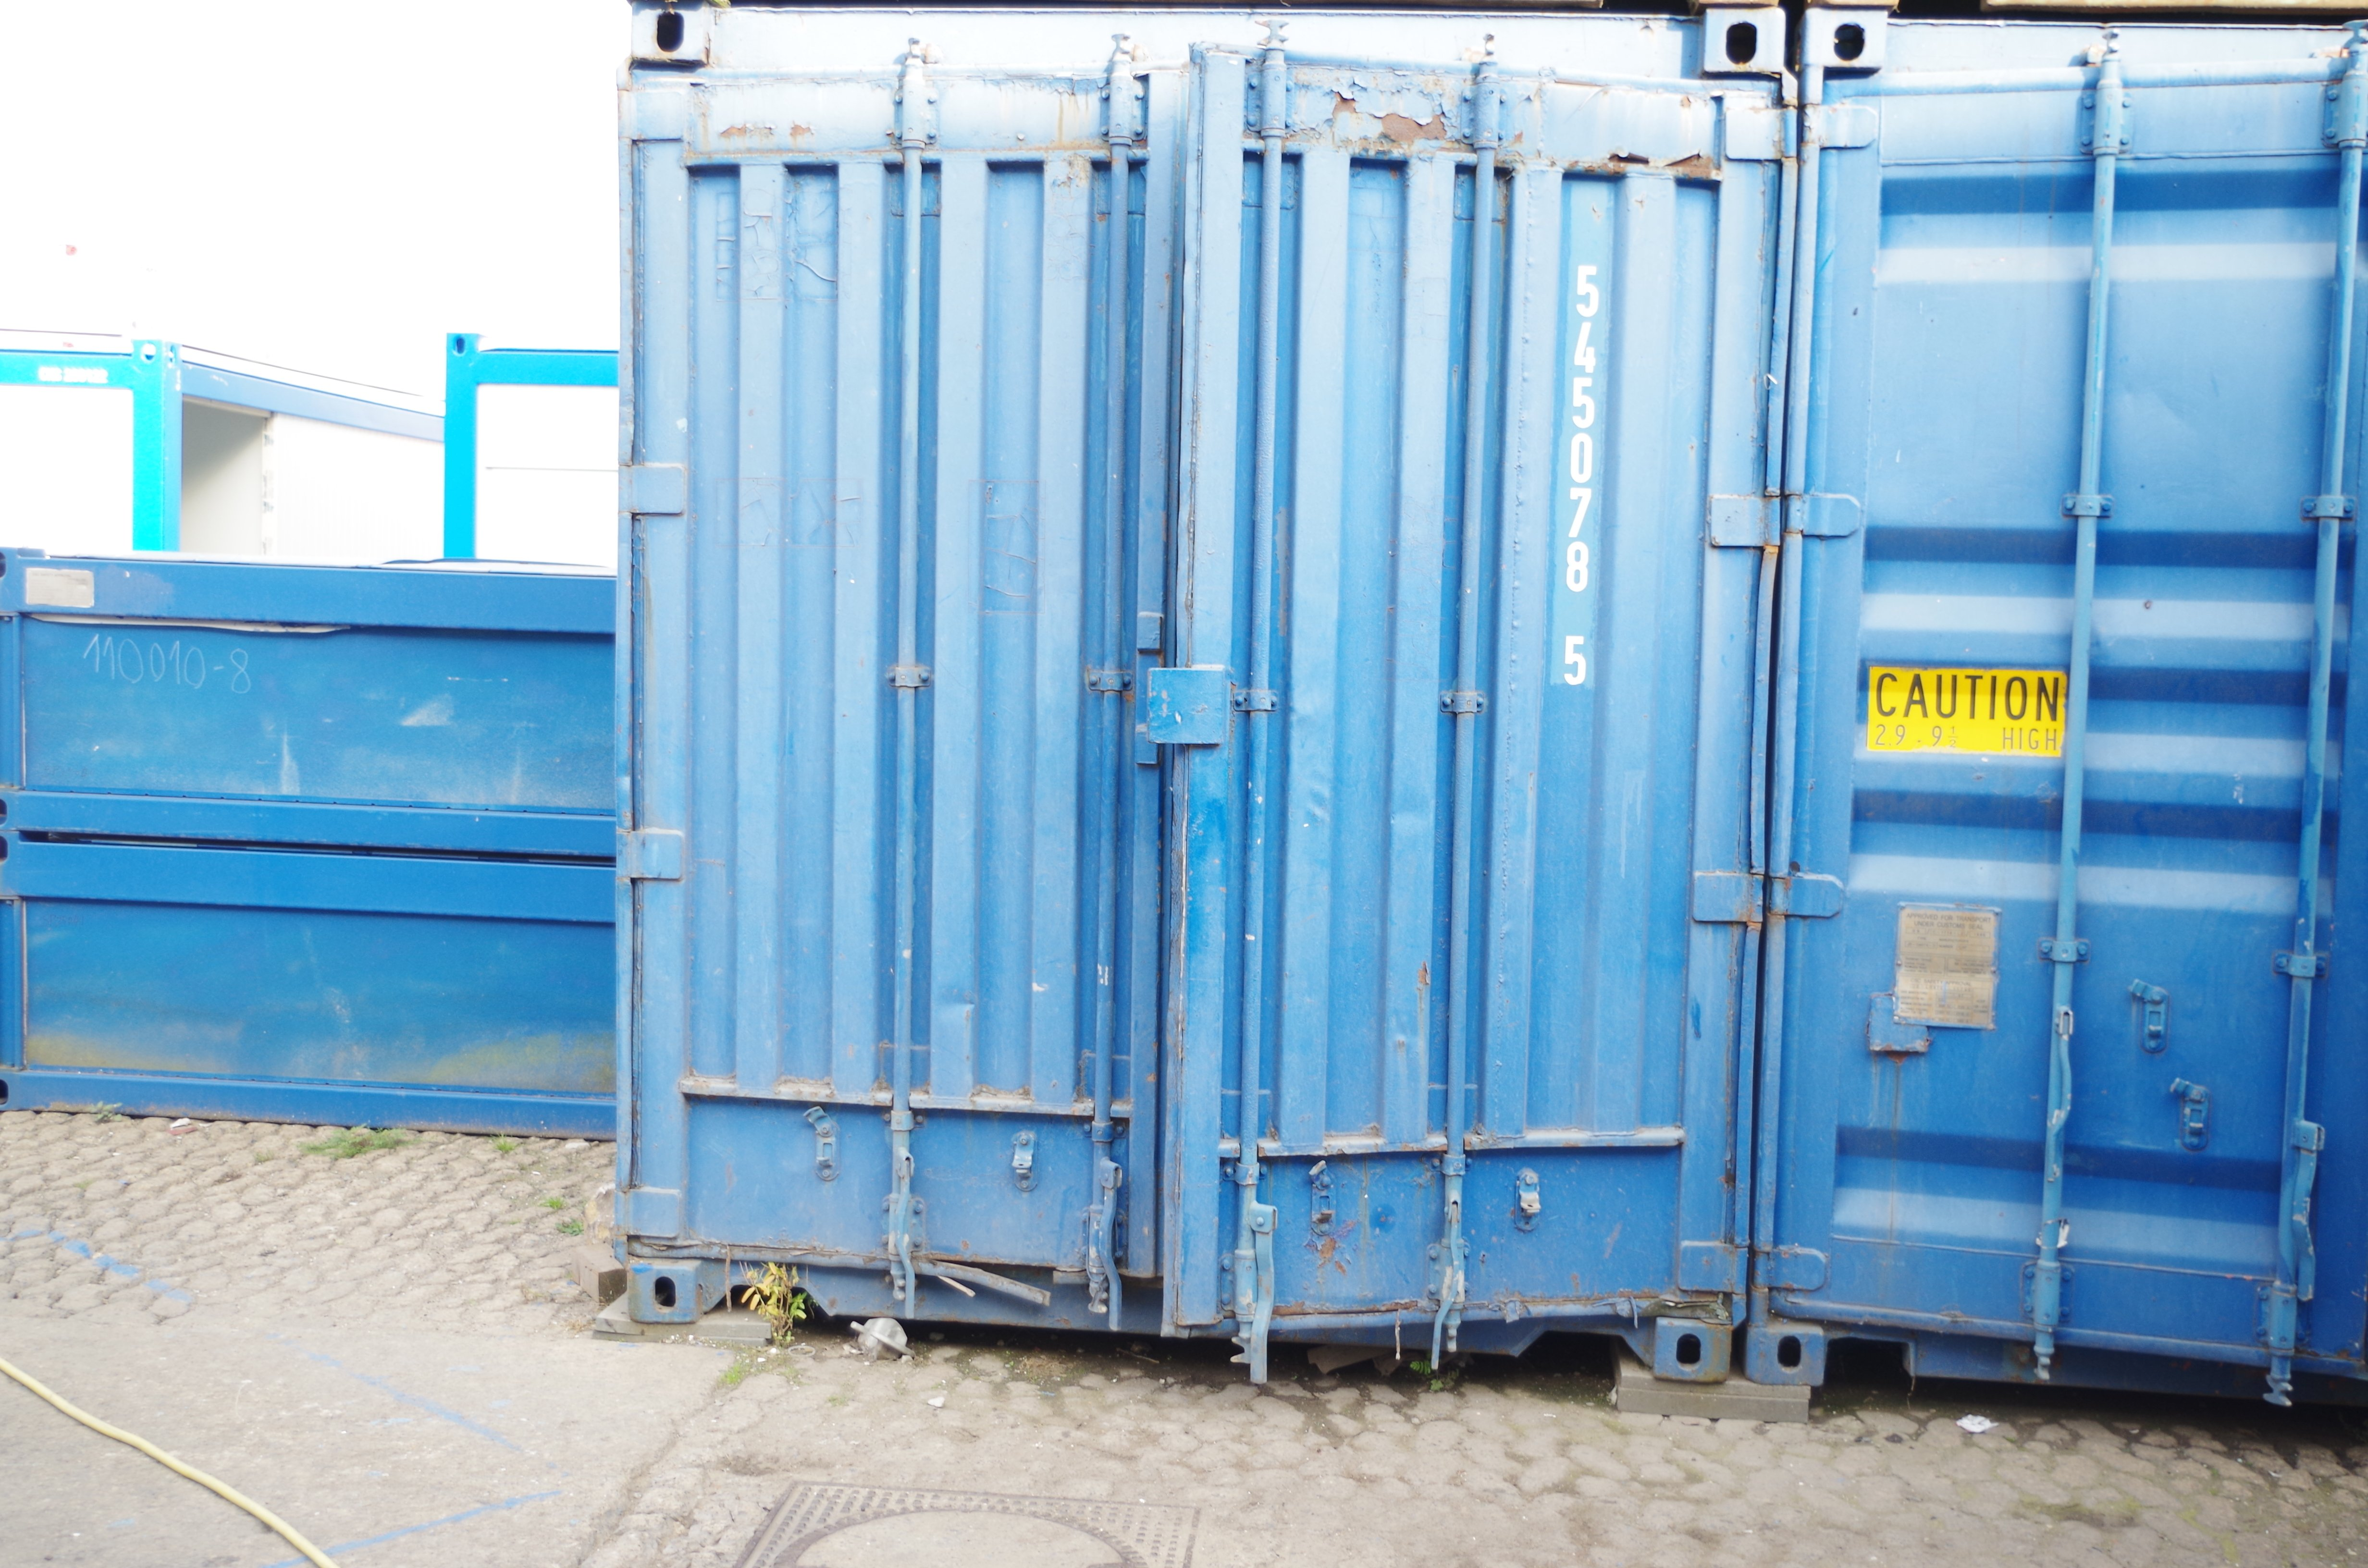container_door: (642, 19, 1761, 1333)
